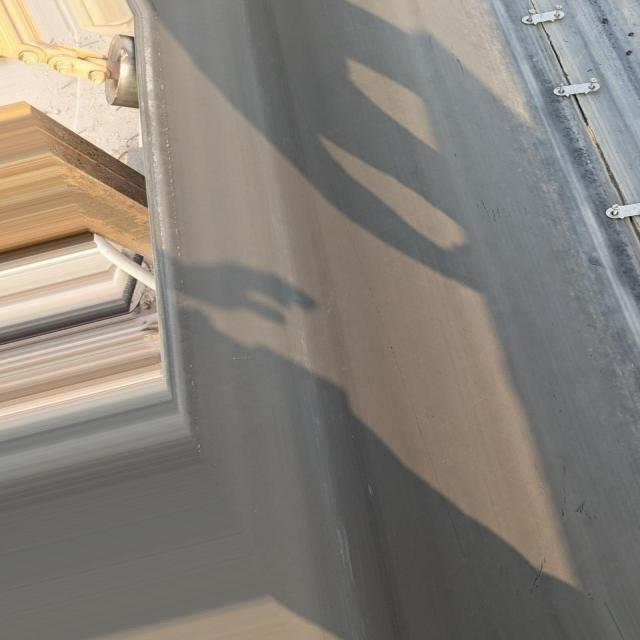Roller: (96, 39, 144, 106)
patch work: (502, 0, 640, 275)
